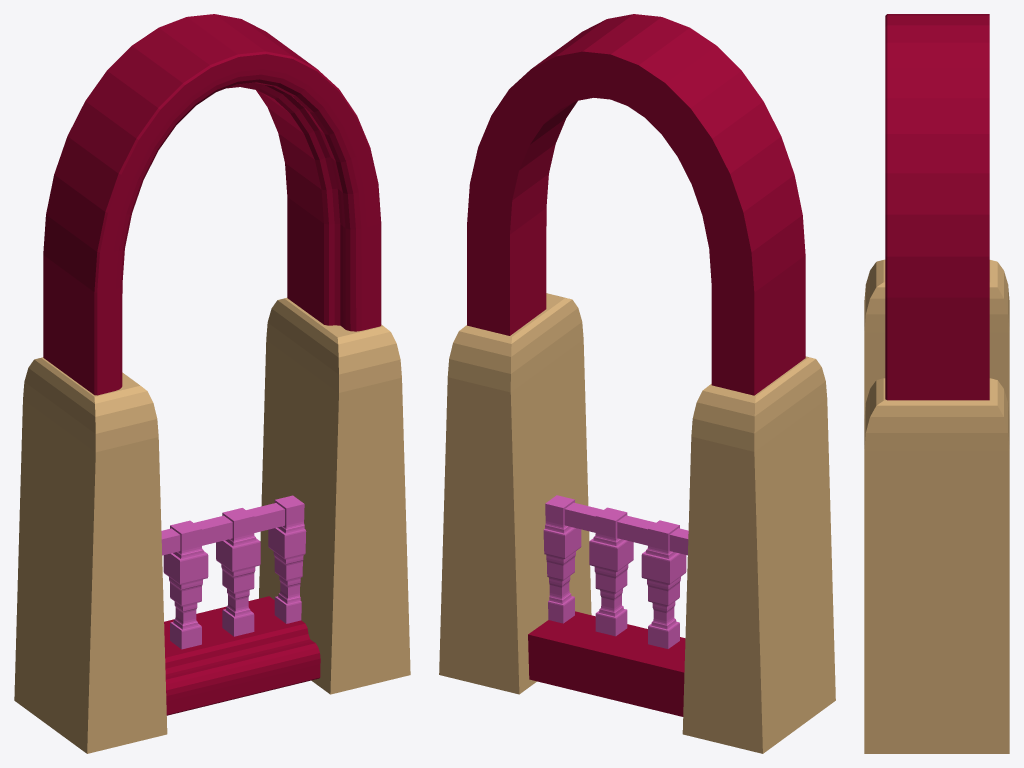
Rendered from Window1.fbx.
3 views of the same model, side by side, from view 1: azimuth 30°, elevation 25°; view 2: azimuth 150°, elevation 25°; view 3: azimuth 270°, elevation 25° (orthographic).
Parts seen in each view (by area): view 1: Circle.014; view 2: Circle.014; view 3: Circle.014.
Part boxes in pixels (left/top/right/bottom): Circle.014: left=14, top=14, right=410, bottom=753; Circle.014: left=439, top=14, right=835, bottom=753; Circle.014: left=864, top=14, right=1009, bottom=753.
Size of the model in its own units: 558 by 1075 by 218.
